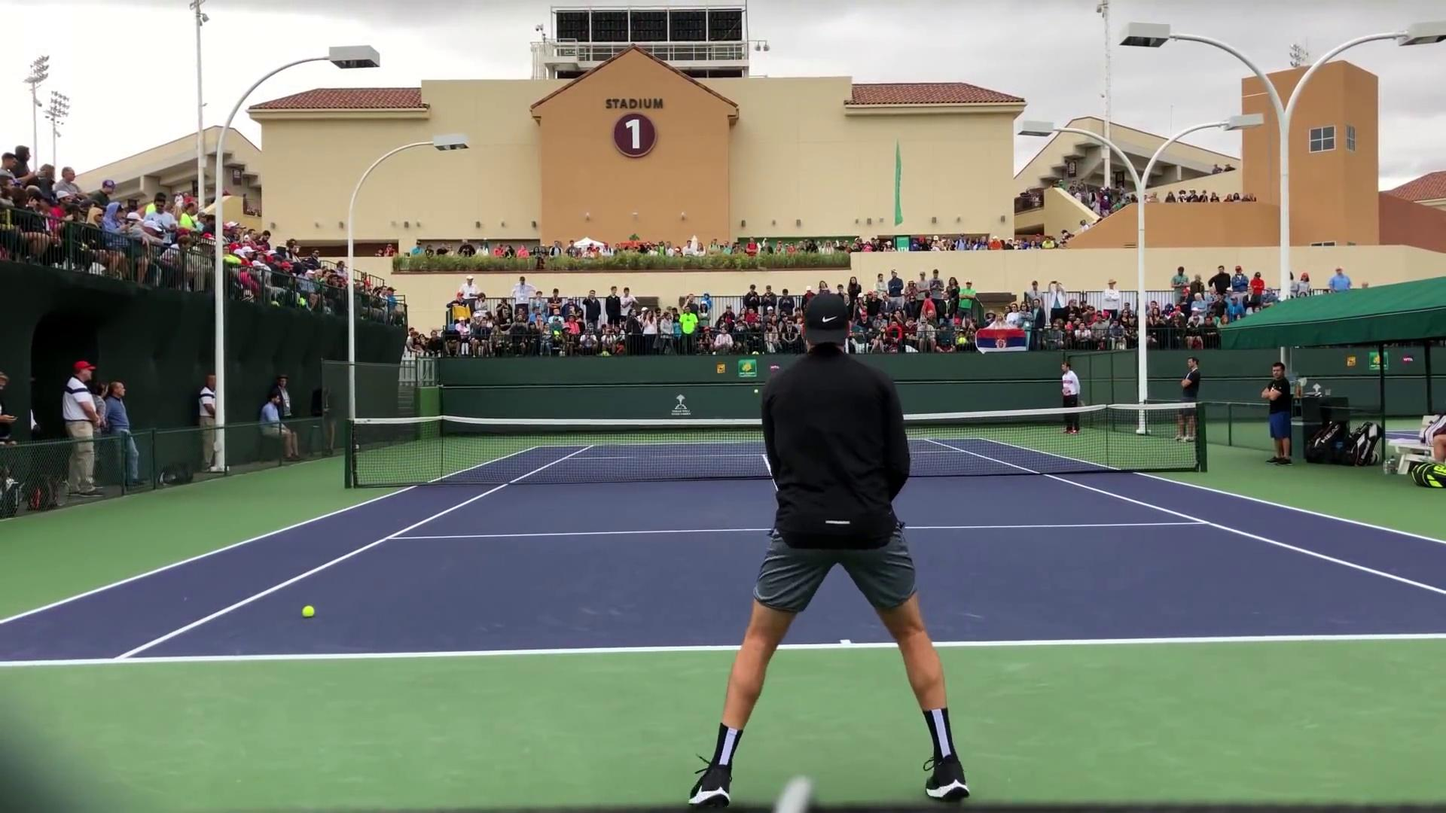ball: (301, 605, 315, 618), (755, 392, 757, 394)
